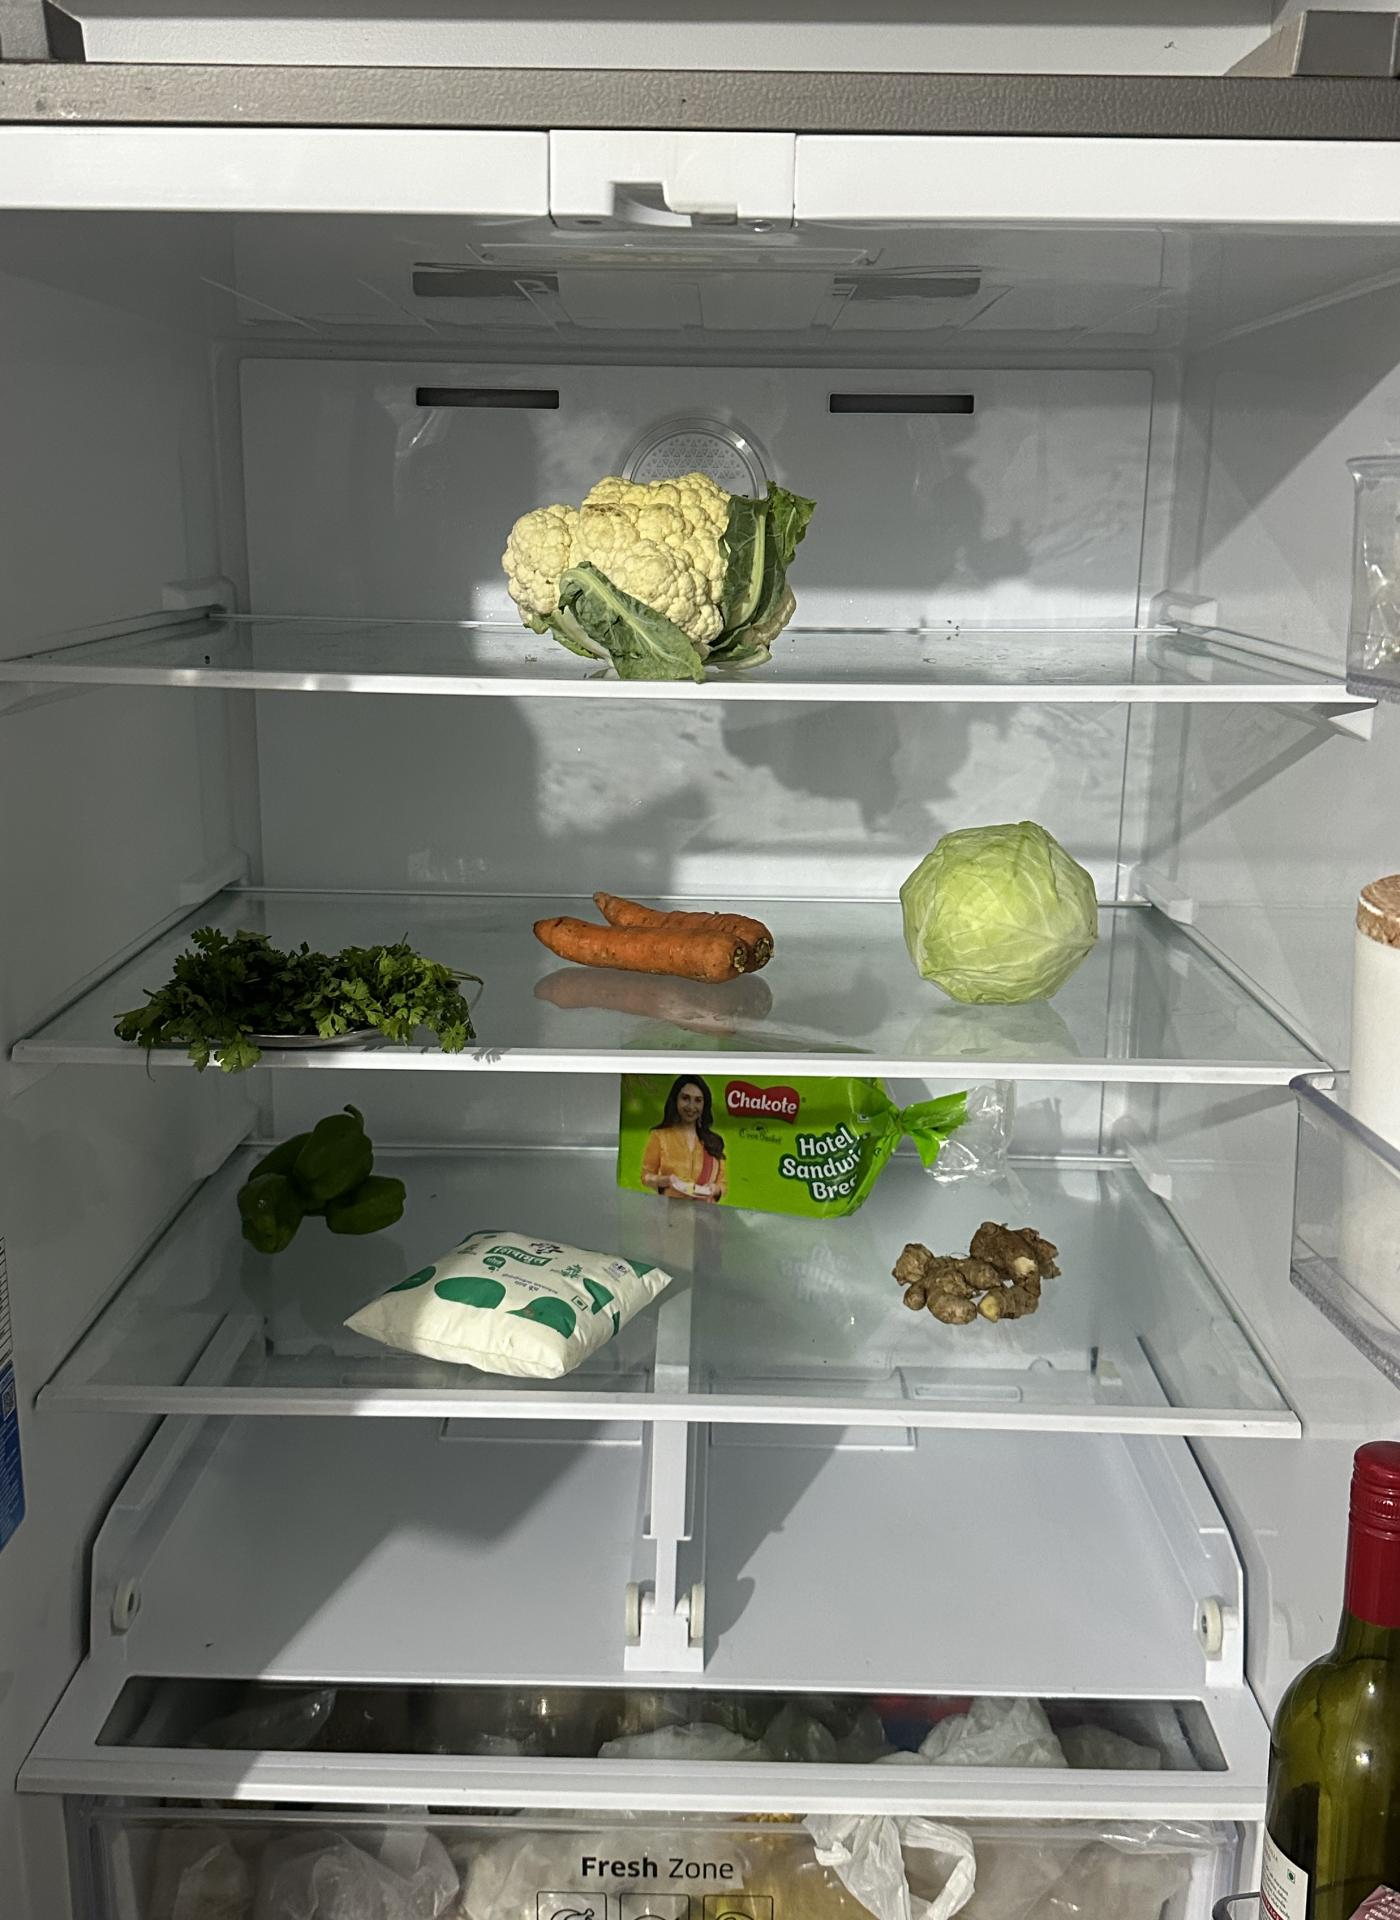bread: (620, 1067, 905, 1207)
cabbage: (899, 818, 1097, 1009)
capsicum: (236, 1117, 404, 1251)
carrots: (537, 888, 775, 970)
cauliflower: (504, 477, 810, 660)
coriander: (136, 938, 482, 1060)
ginger: (896, 1219, 1063, 1324)
milk: (350, 1236, 677, 1382)
